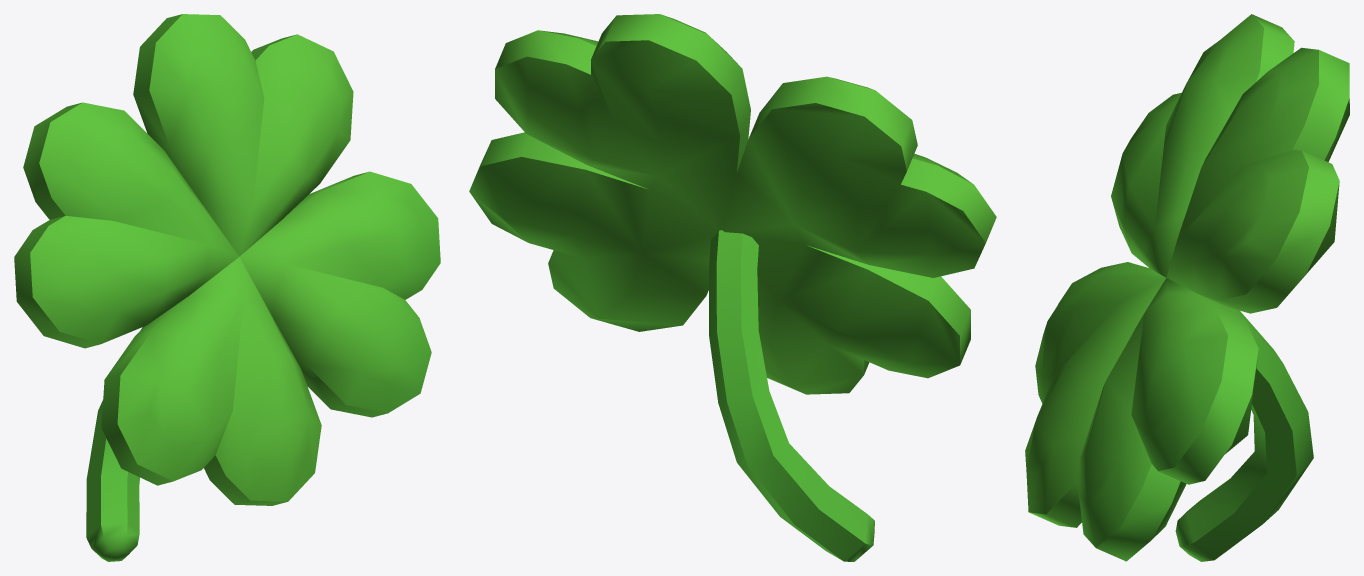
3 views of the same model, side by side, from view 1: azimuth 30°, elevation 25°; view 2: azimuth 150°, elevation 25°; view 3: azimuth 270°, elevation 25° (orthographic). The views are drawn at different scales.
Visible parts, largest first — view 1: model_0.008; view 2: model_0.008; view 3: model_0.008.
Part boxes in pixels (bbox=[...]): model_0.008: bbox=[14, 14, 440, 561]; model_0.008: bbox=[469, 14, 996, 561]; model_0.008: bbox=[1025, 14, 1349, 561].
Bounding box in the file's own units: 3.85 × 4.09 × 2.1.
